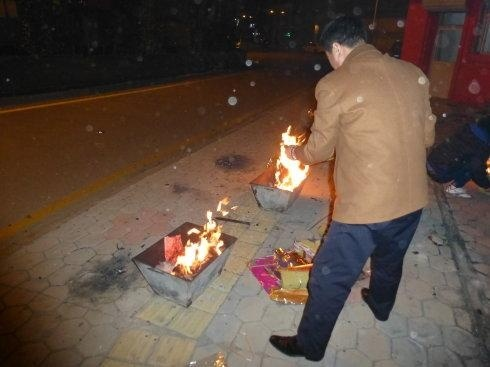fire: (167, 192, 231, 272), (268, 122, 309, 191)
